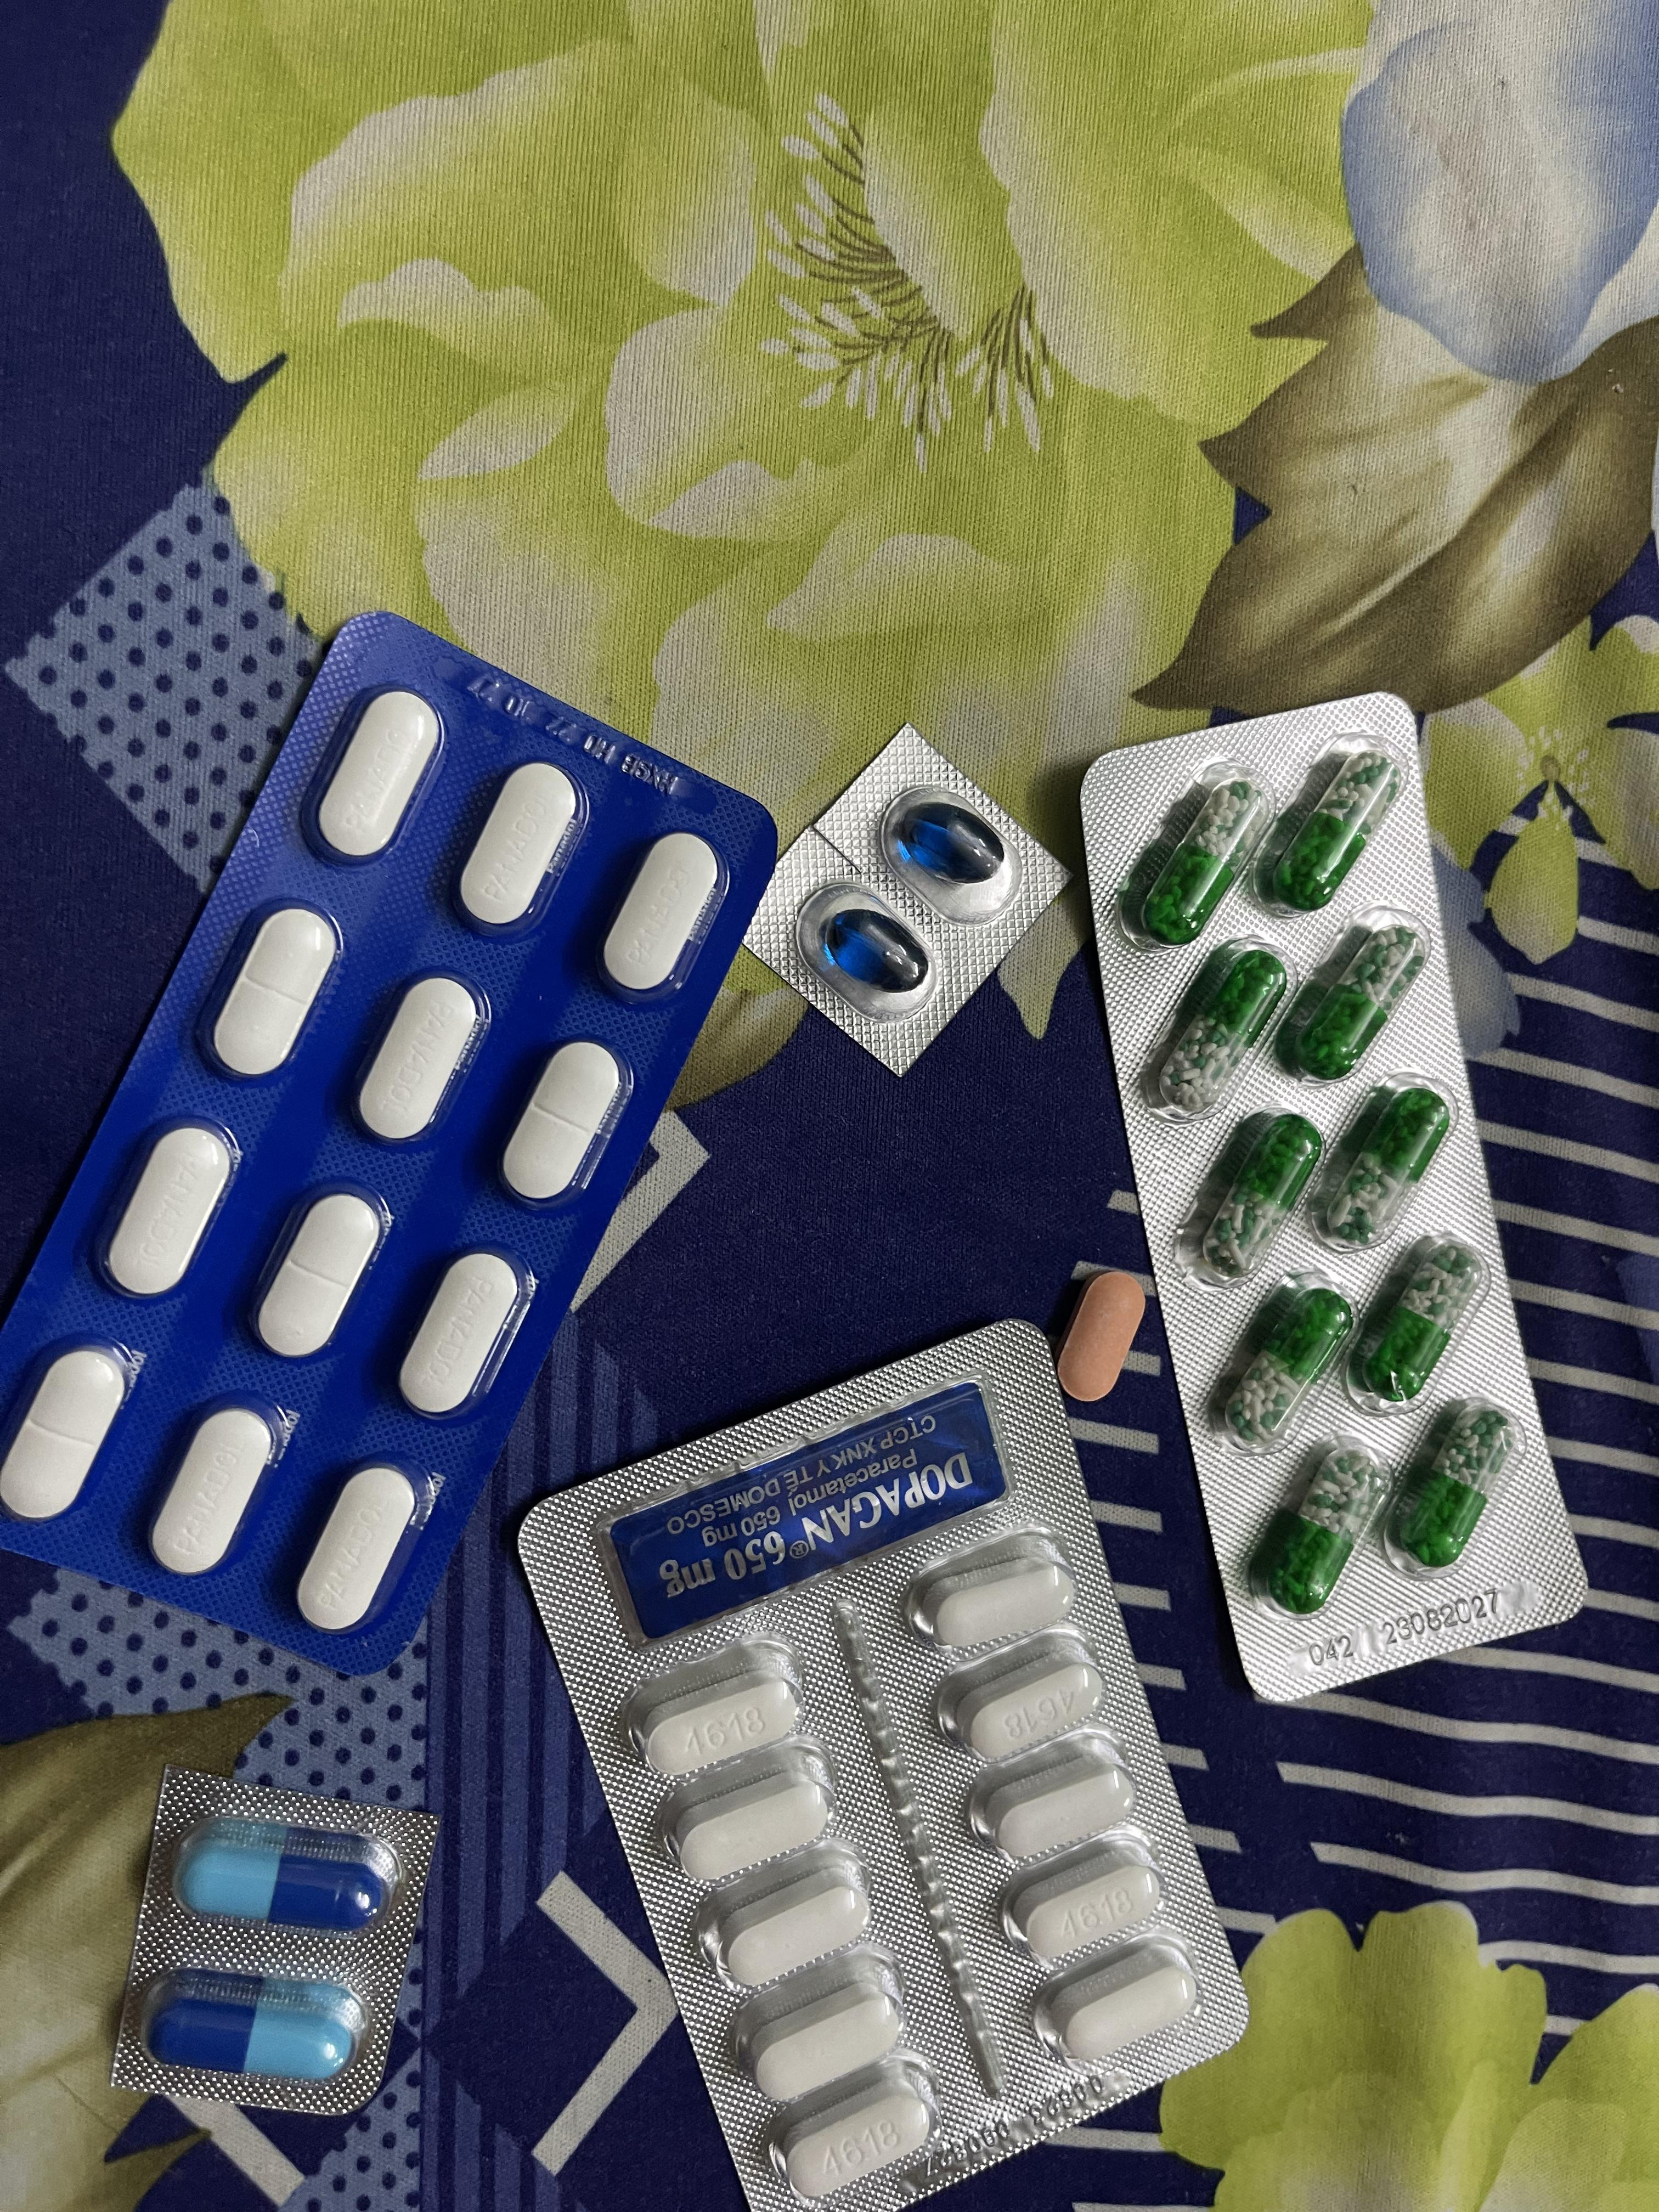Lincomyxin_500mg: (894, 801, 1007, 884), (825, 907, 929, 991)
Loratadine_10mg: (1055, 1269, 1143, 1402)
Paracetamol_350mg: (93, 1118, 240, 1302), (199, 905, 342, 1088), (0, 1341, 137, 1527), (248, 1184, 391, 1362), (149, 1400, 291, 1577), (349, 974, 486, 1150), (311, 690, 444, 864), (590, 832, 723, 1006), (397, 1249, 531, 1421), (295, 1465, 428, 1635), (456, 761, 588, 933), (496, 1041, 628, 1210)
Paracetamol_500mg: (737, 1952, 910, 2102), (695, 1847, 867, 1988), (658, 1736, 830, 1877), (629, 1645, 805, 1783), (934, 1627, 1104, 1758), (1000, 1830, 1164, 1961), (972, 1741, 1139, 1869), (773, 2070, 935, 2200), (1049, 1958, 1190, 2062), (921, 1559, 1070, 1649)
Paracetamol_650mg: (1254, 1443, 1384, 1609), (1318, 1081, 1452, 1242), (1224, 1286, 1355, 1451), (1291, 923, 1426, 1079), (1163, 951, 1286, 1111), (1202, 1114, 1323, 1273), (1393, 1405, 1512, 1565), (1362, 1250, 1479, 1395), (1154, 781, 1261, 936), (1277, 761, 1389, 905)
pill: (176, 1816, 409, 1936), (142, 1970, 372, 2083)
